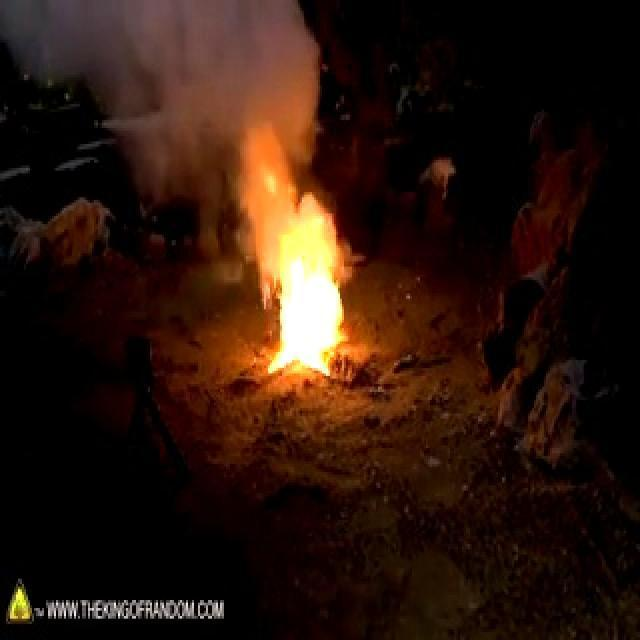Fire: (262, 174, 356, 380)
Smoke: (30, 0, 326, 163)
